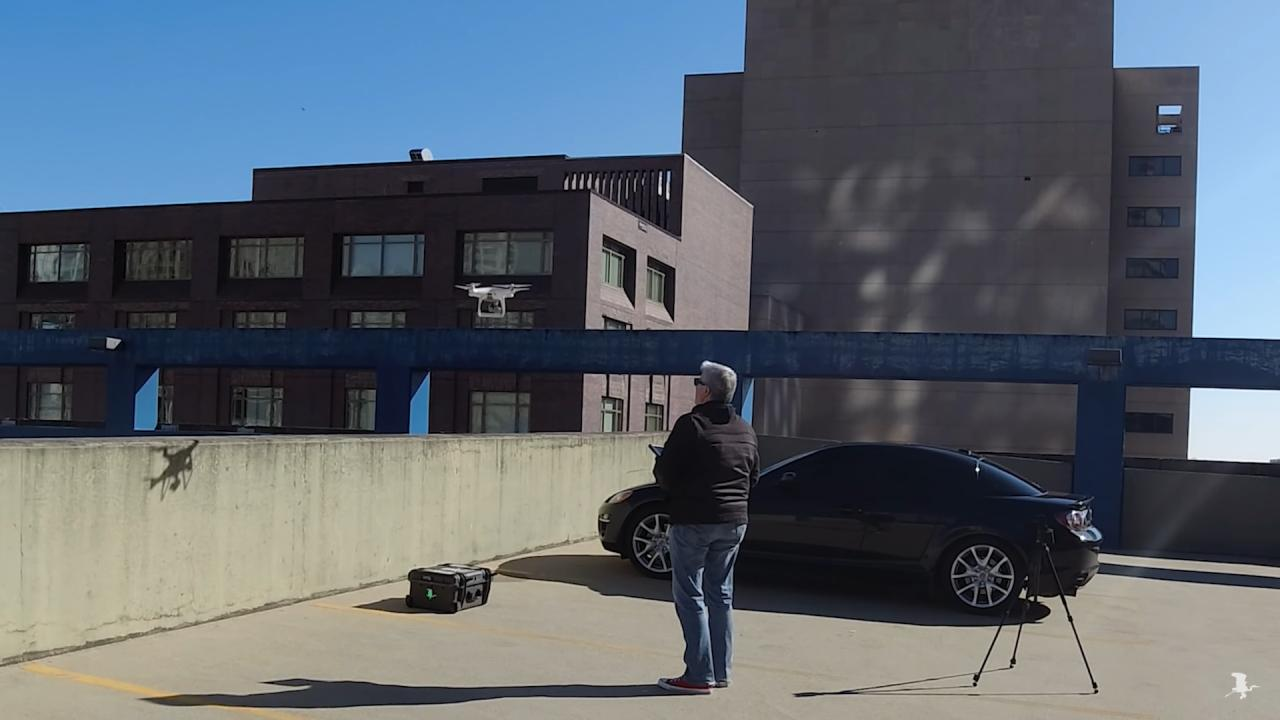Drone: (446, 272, 542, 327)
